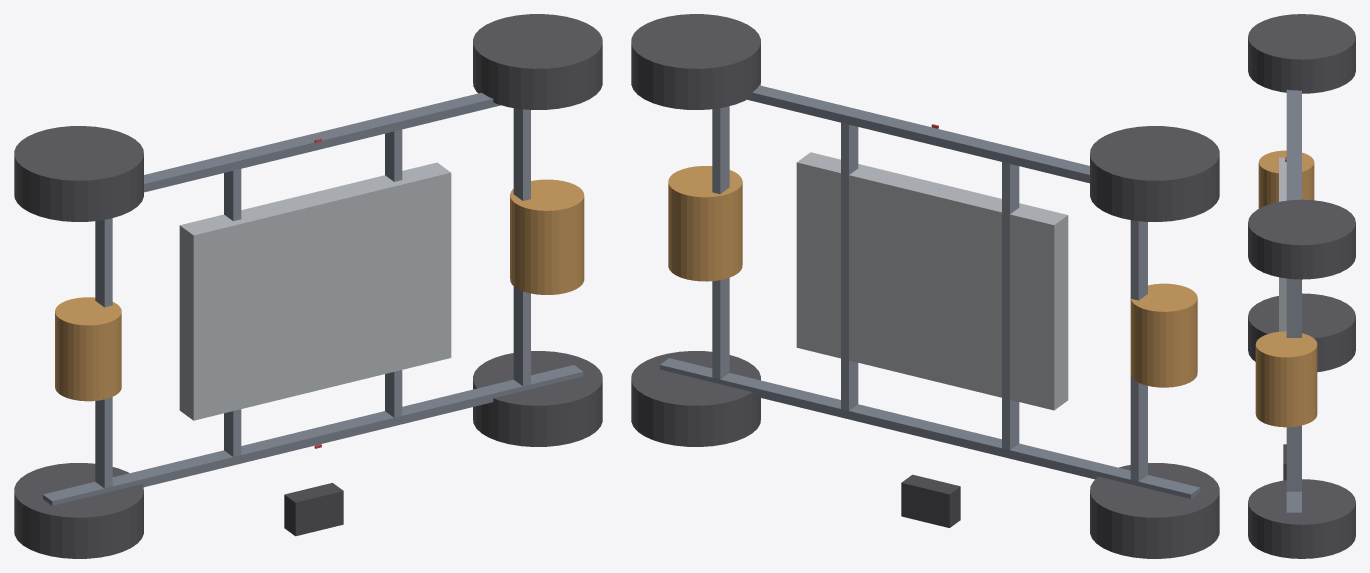
File: EV_Chassis_Platform.glb
The picture shows the model from 3 angles, left to right: view 1: azimuth 30°, elevation 25°; view 2: azimuth 150°, elevation 25°; view 3: azimuth 270°, elevation 25°; orthographic projection. The views are drawn at different scales.
Parts seen in each view (by area): view 1: Battery_Pack_Enclosure, Wheel_Assembly_2, Wheel_Assembly_4, Wheel_Assembly_1, Wheel_Assembly_3, Chassis_Rail_Left, Rear_Drive_Unit, Front_Drive_Unit, Chassis_Rail_Right, Cross_Member_4, Cross_Member_1, Controller_Instrument_Box (+2 smaller); view 2: Battery_Pack_Enclosure, Wheel_Assembly_2, Wheel_Assembly_4, Wheel_Assembly_1, Wheel_Assembly_3, Chassis_Rail_Left, Rear_Drive_Unit, Front_Drive_Unit, Chassis_Rail_Right, Cross_Member_4, Cross_Member_3, Cross_Member_2 (+2 smaller); view 3: Wheel_Assembly_4, Wheel_Assembly_2, Wheel_Assembly_3, Rear_Drive_Unit, Wheel_Assembly_1, Cross_Member_4, Chassis_Rail_Right, Front_Drive_Unit, Battery_Pack_Enclosure, Chassis_Rail_Left.
Boxes of the visible parts, bbox=[...] form: Battery_Pack_Enclosure: bbox=[179, 162, 451, 420]; Wheel_Assembly_2: bbox=[14, 126, 143, 221]; Wheel_Assembly_4: bbox=[473, 14, 602, 109]; Wheel_Assembly_1: bbox=[14, 463, 143, 558]; Wheel_Assembly_3: bbox=[473, 351, 602, 446]; Chassis_Rail_Left: bbox=[43, 365, 583, 505]; Rear_Drive_Unit: bbox=[510, 179, 584, 294]; Front_Drive_Unit: bbox=[55, 297, 121, 401]; Chassis_Rail_Right: bbox=[144, 92, 500, 192]; Cross_Member_4: bbox=[513, 108, 530, 386]; Cross_Member_1: bbox=[95, 218, 112, 488]; Controller_Instrument_Box: bbox=[284, 483, 343, 536]; Battery_Pack_Enclosure: bbox=[796, 152, 1068, 410]; Wheel_Assembly_2: bbox=[1090, 126, 1219, 221]; Wheel_Assembly_4: bbox=[631, 14, 760, 109]; Wheel_Assembly_1: bbox=[1090, 463, 1219, 558]; Wheel_Assembly_3: bbox=[631, 351, 760, 446]; Chassis_Rail_Left: bbox=[660, 358, 1200, 498]; Rear_Drive_Unit: bbox=[668, 166, 742, 281]; Front_Drive_Unit: bbox=[1130, 283, 1197, 387]; Chassis_Rail_Right: bbox=[747, 85, 1089, 183]; Cross_Member_4: bbox=[712, 106, 729, 379]; Cross_Member_3: bbox=[841, 122, 858, 410]; Cross_Member_2: bbox=[1002, 162, 1019, 450]; Wheel_Assembly_4: bbox=[1248, 199, 1355, 279]; Wheel_Assembly_2: bbox=[1248, 14, 1355, 93]; Wheel_Assembly_3: bbox=[1248, 479, 1355, 558]; Rear_Drive_Unit: bbox=[1255, 331, 1317, 427]; Wheel_Assembly_1: bbox=[1248, 293, 1355, 372]; Cross_Member_4: bbox=[1286, 278, 1301, 491]; Chassis_Rail_Right: bbox=[1286, 89, 1301, 200]; Front_Drive_Unit: bbox=[1258, 150, 1314, 208]; Battery_Pack_Enclosure: bbox=[1279, 157, 1286, 331]; Chassis_Rail_Left: bbox=[1286, 491, 1301, 516].
Size of the model in its own units: 3550 by 2522 by 700.
